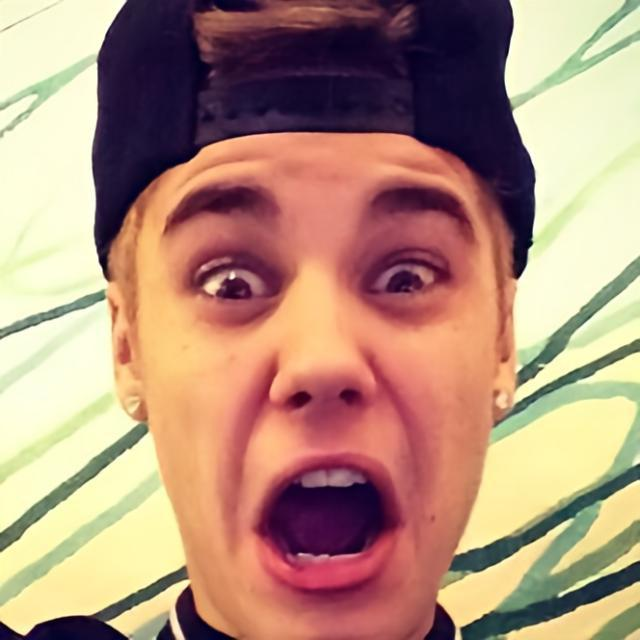fear: (139, 129, 496, 640)
